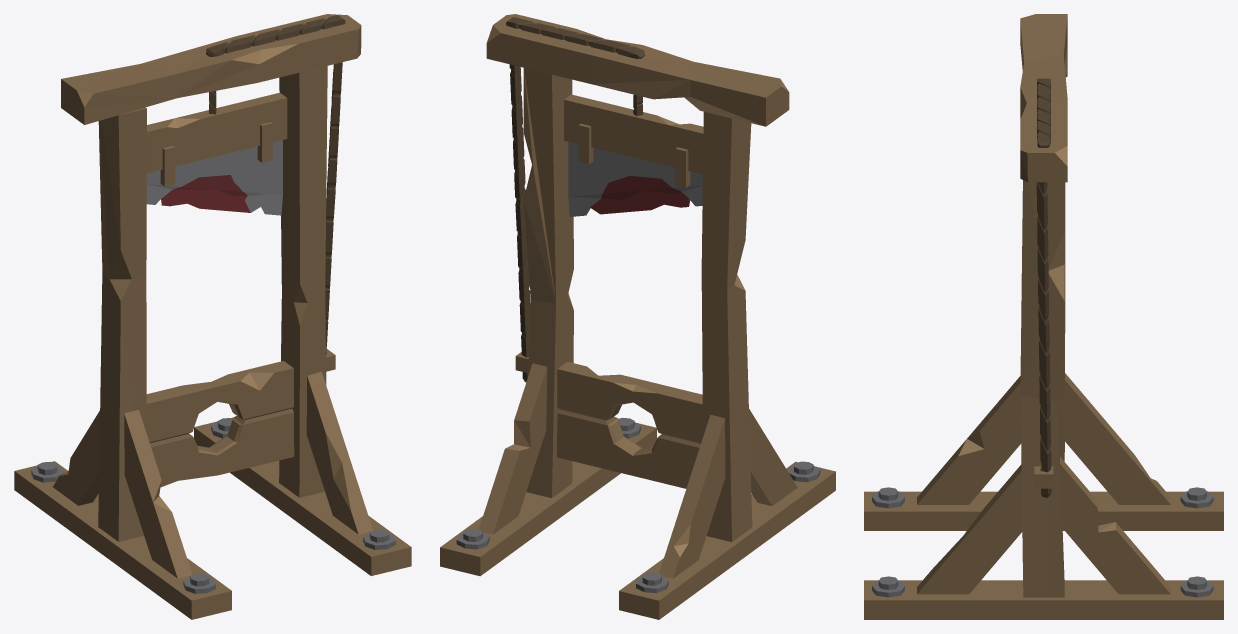
Rendered from SM_Prop_Guillotine_01.gltf.
The picture shows the model from 3 angles, left to right: view 1: azimuth 30°, elevation 25°; view 2: azimuth 150°, elevation 25°; view 3: azimuth 270°, elevation 25°; orthographic projection.
Parts seen in each view (by area): view 1: SM_Prop_Guillotine_01; view 2: SM_Prop_Guillotine_01; view 3: SM_Prop_Guillotine_01.
Part boxes in pixels (left/top/right/bottom): SM_Prop_Guillotine_01: left=14, top=14, right=411, bottom=619; SM_Prop_Guillotine_01: left=440, top=14, right=835, bottom=619; SM_Prop_Guillotine_01: left=864, top=14, right=1223, bottom=619.
Bounding box in the file's own units: 1.99 × 3.26 × 2.18.
1 material, 1 textured.
